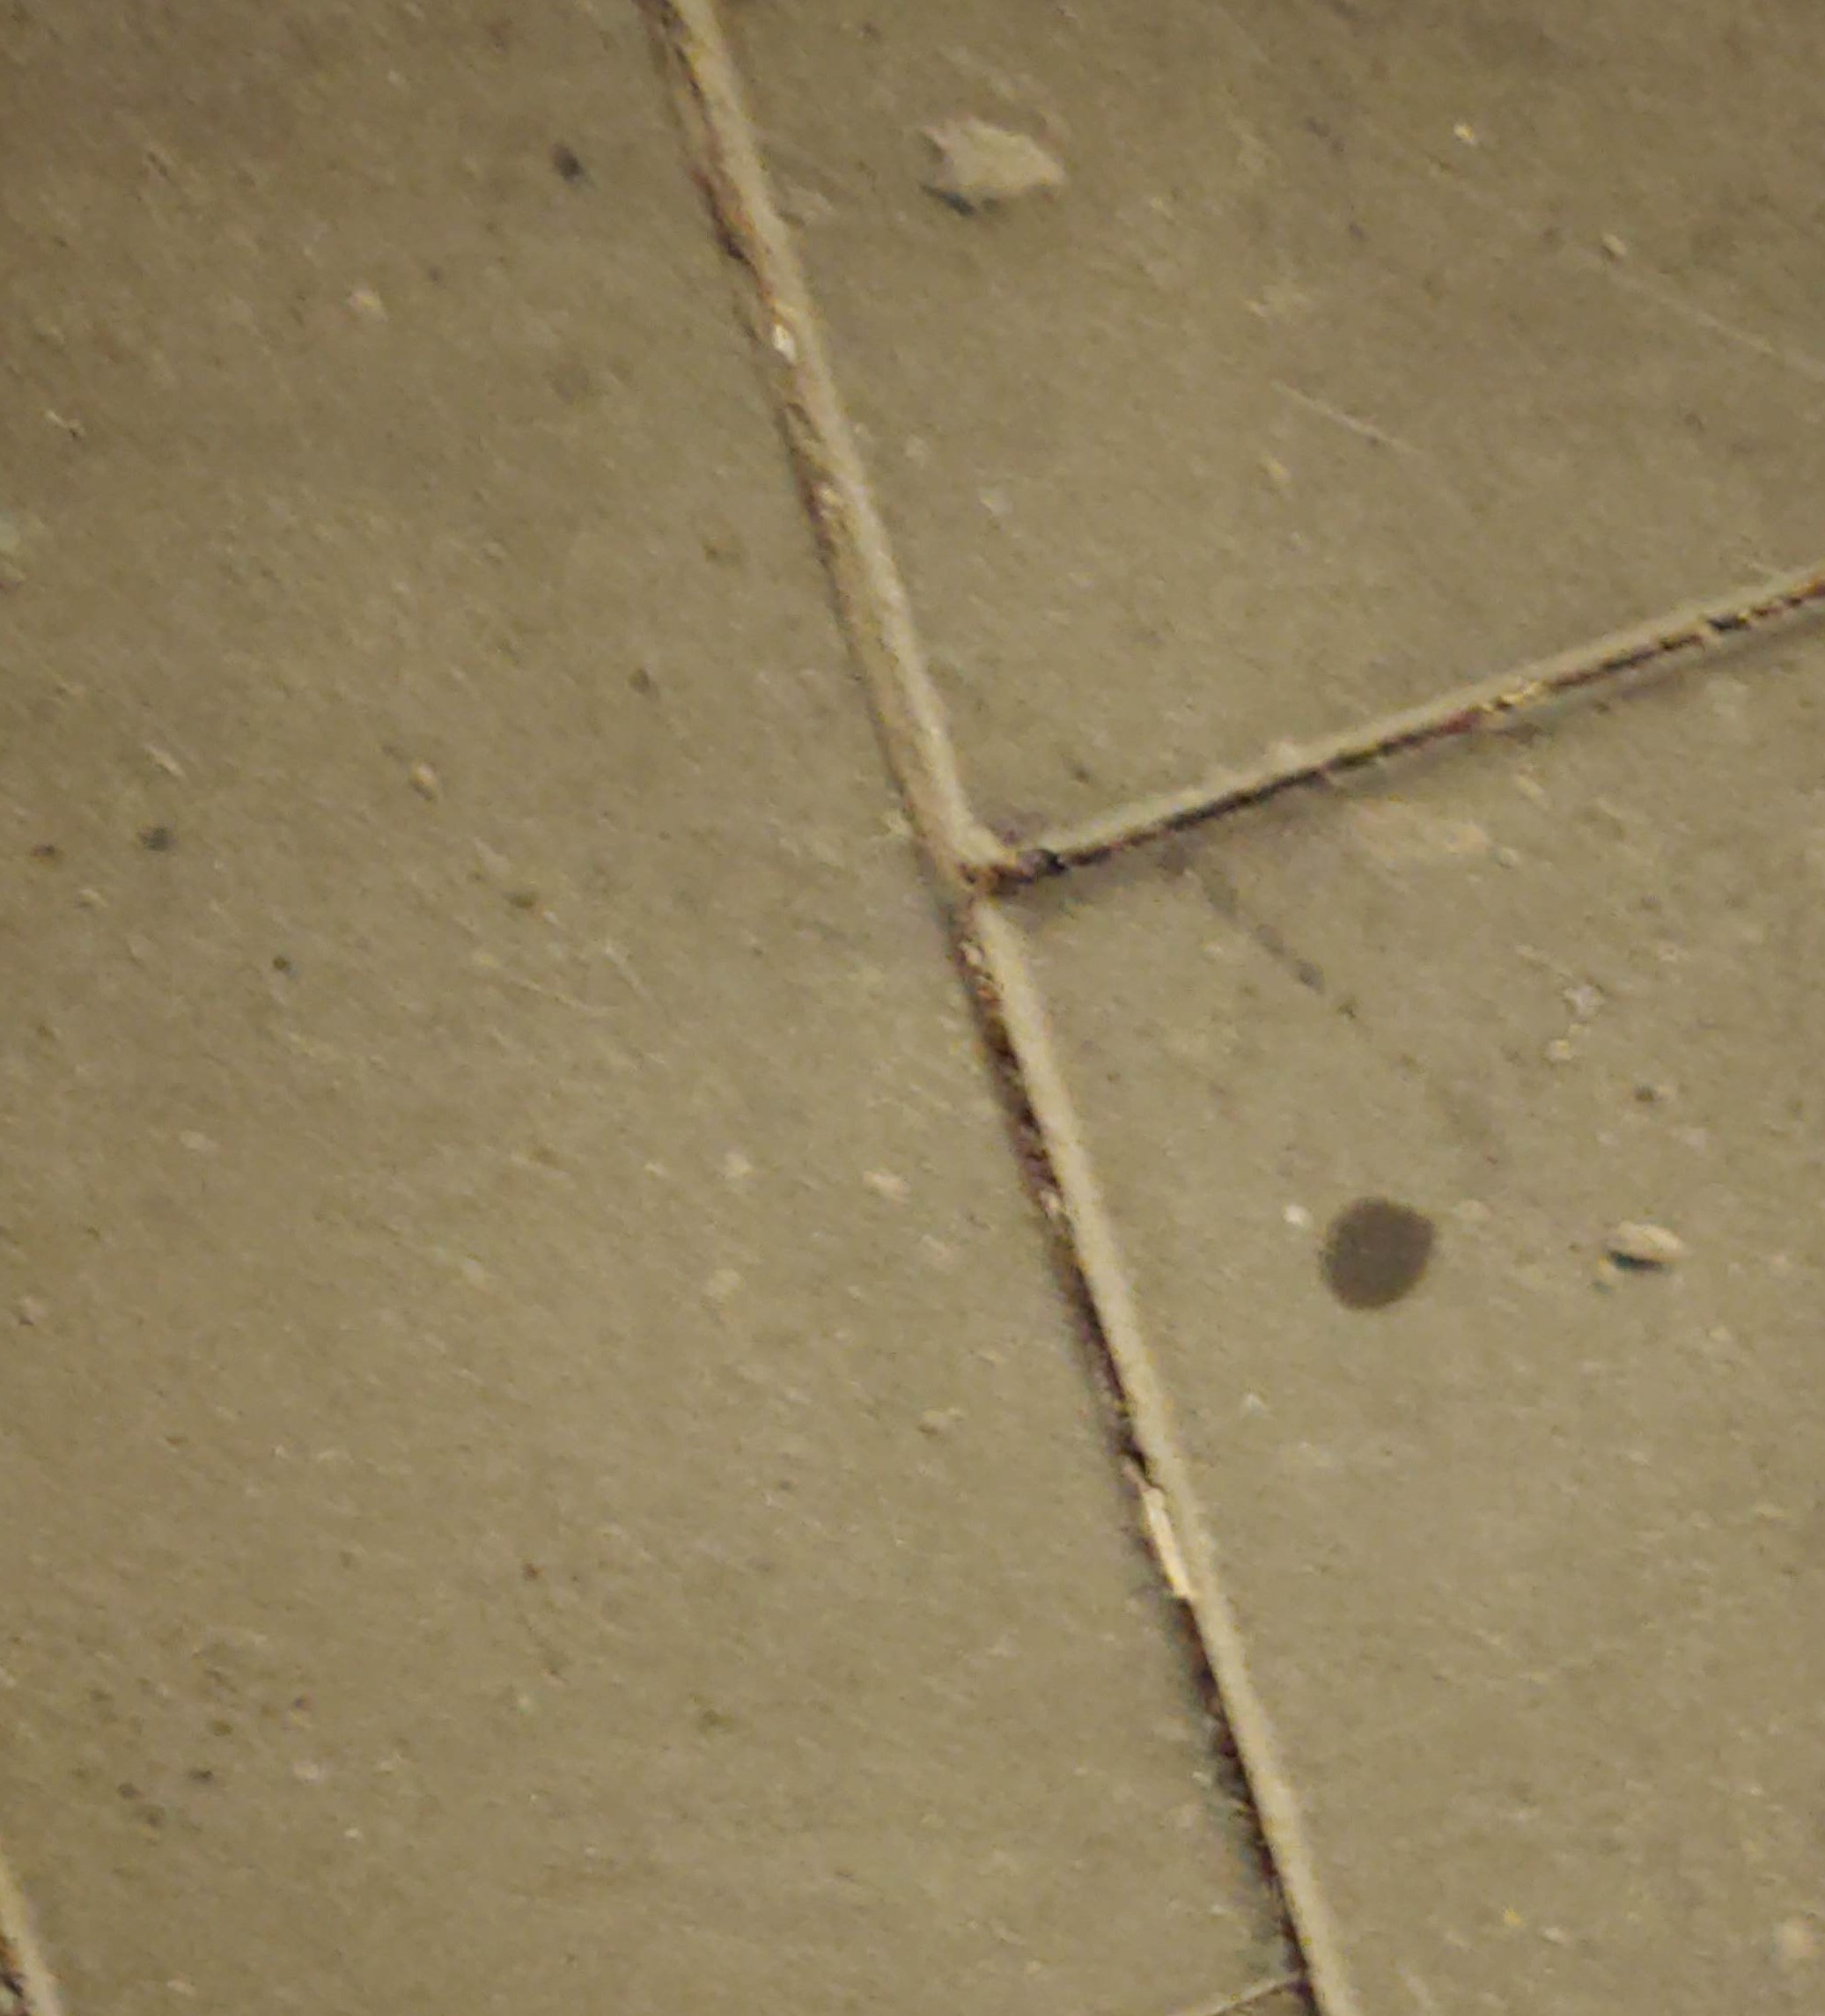grey spot: (1317, 1196, 1433, 1310)
